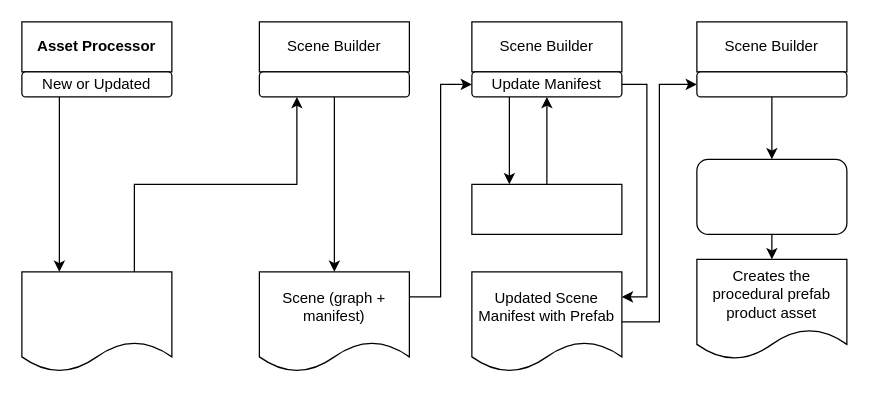
This 869x394 diagram has some shape labels left out. Each missing label, with the centre of its shape:
Fixes asset hints for Prefabs in Scene Manifest: (771,196)
foo.fbx: (96,321)
Pre-Export Scene: (771,84)
Processes FBX: (333,84)
Python Builder: (546,208)
